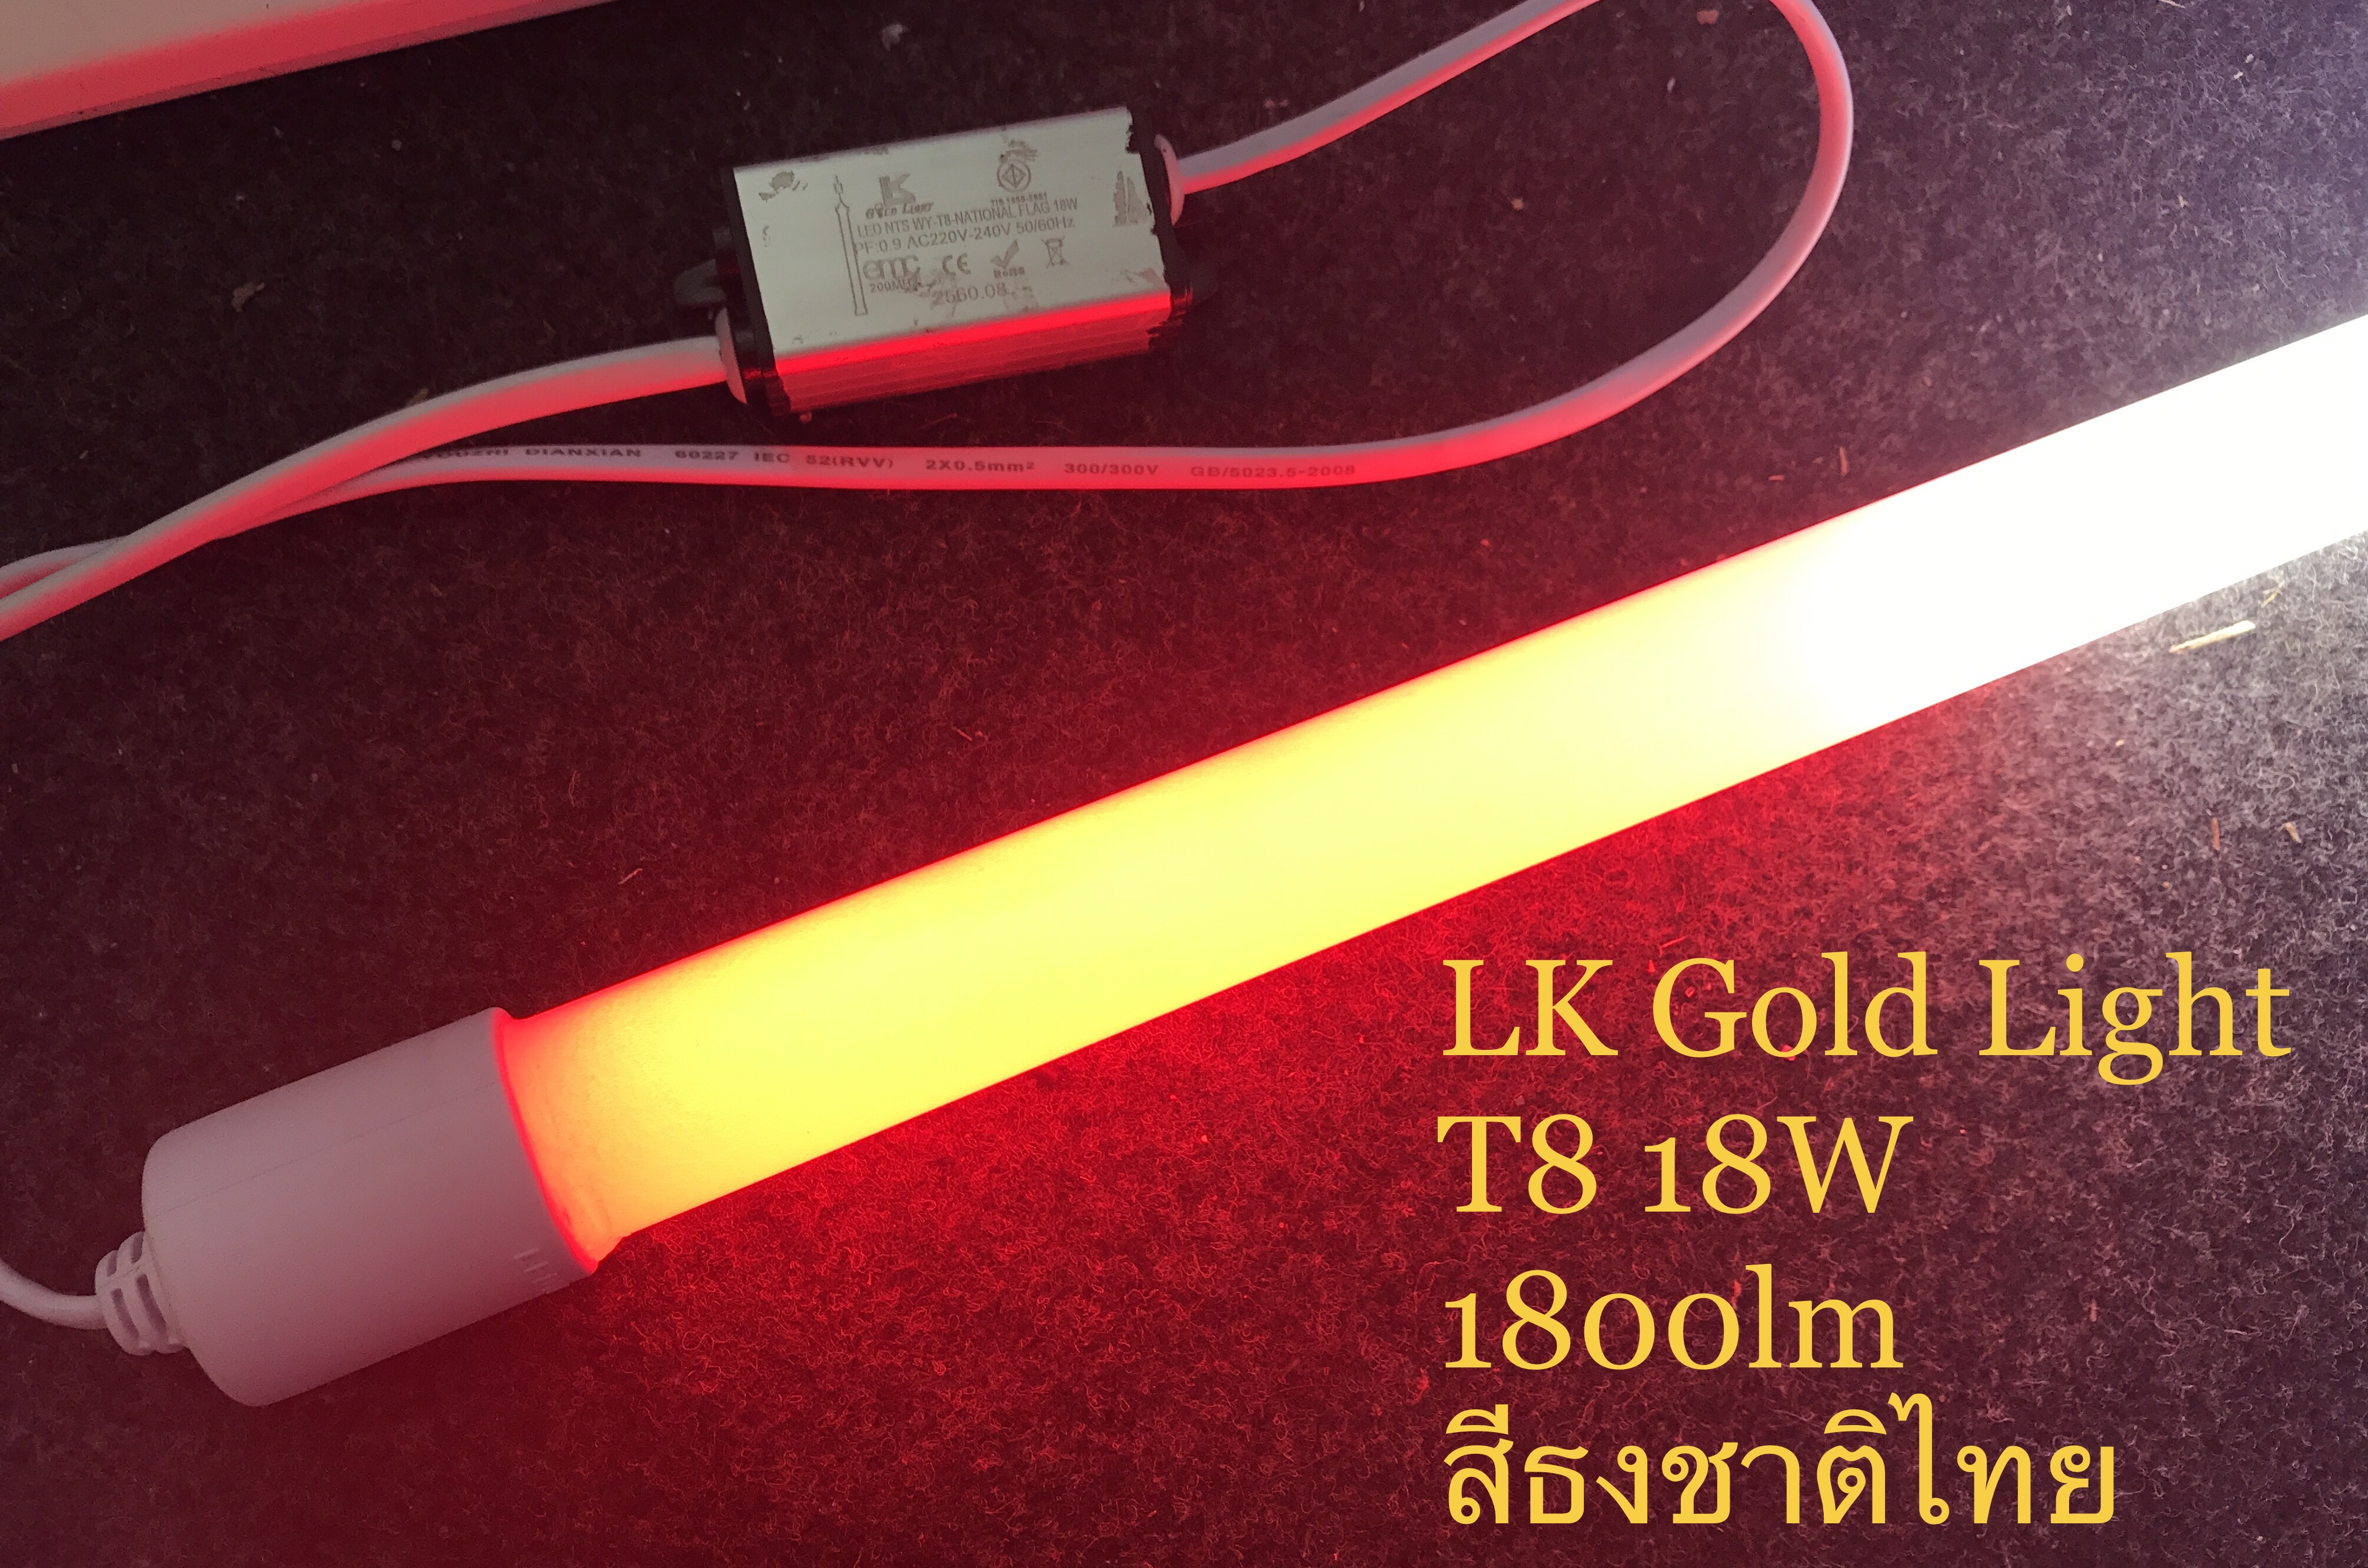Light_bulb: (147, 304, 2368, 1382)
